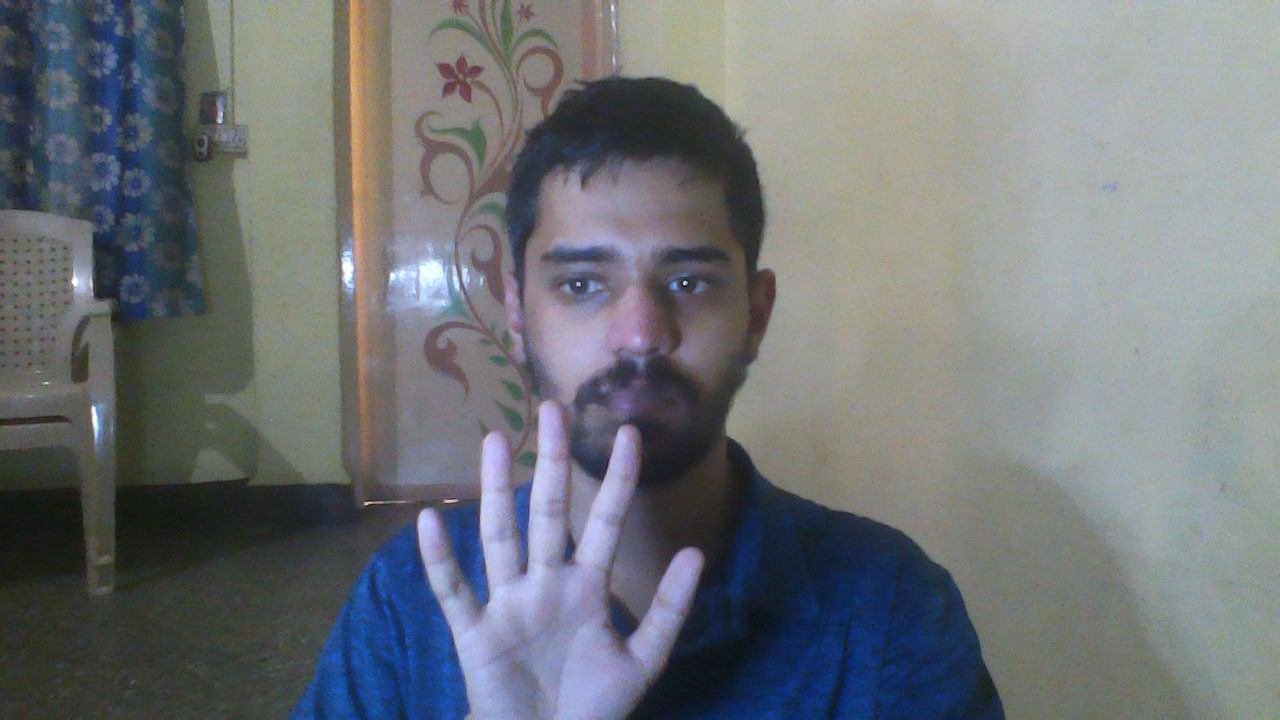hello: (392, 388, 758, 720)
